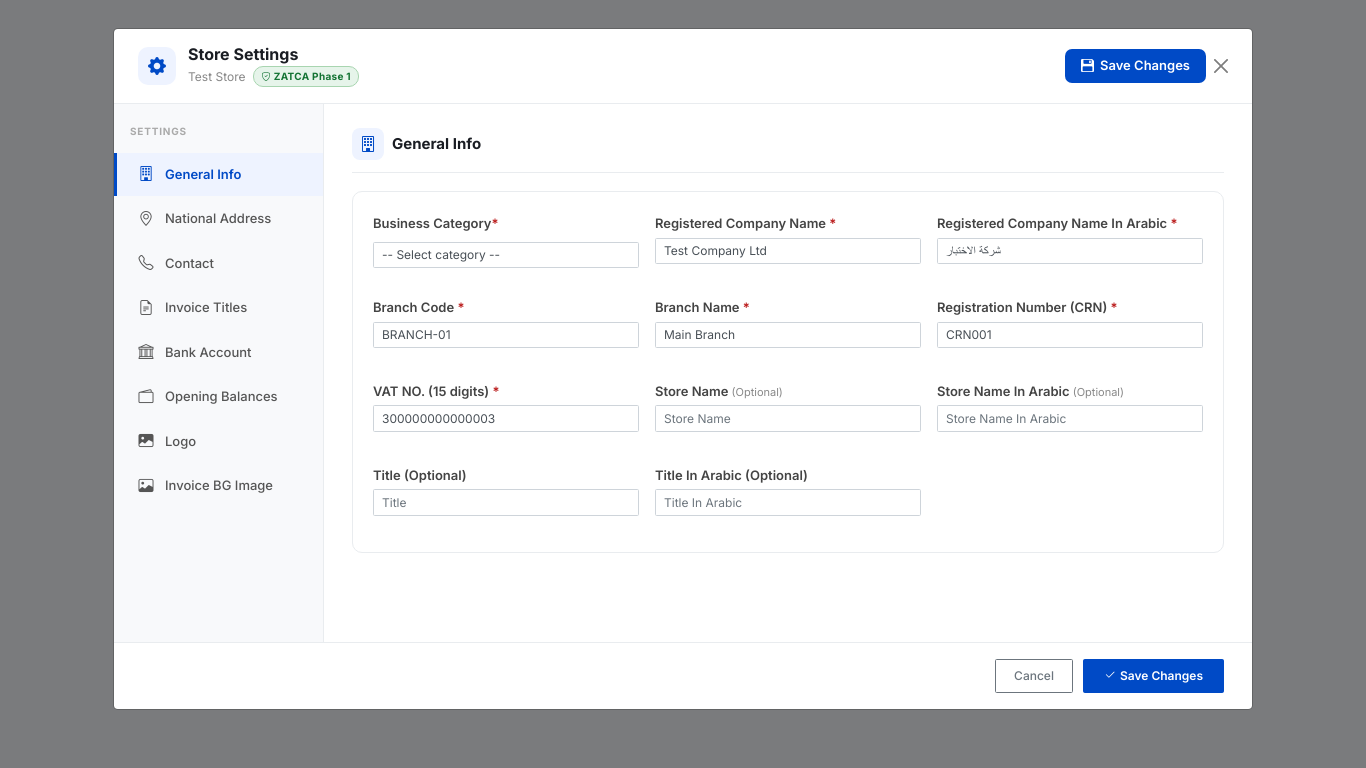
it: 1. Modal visibility › 1.4  store name from localStorage shown in header
expect the heading "General Info" is shown: met, box [392,135,481,153]
Click the button "Invoice Titles".
click(218, 308)  # box [114,287,323,329]
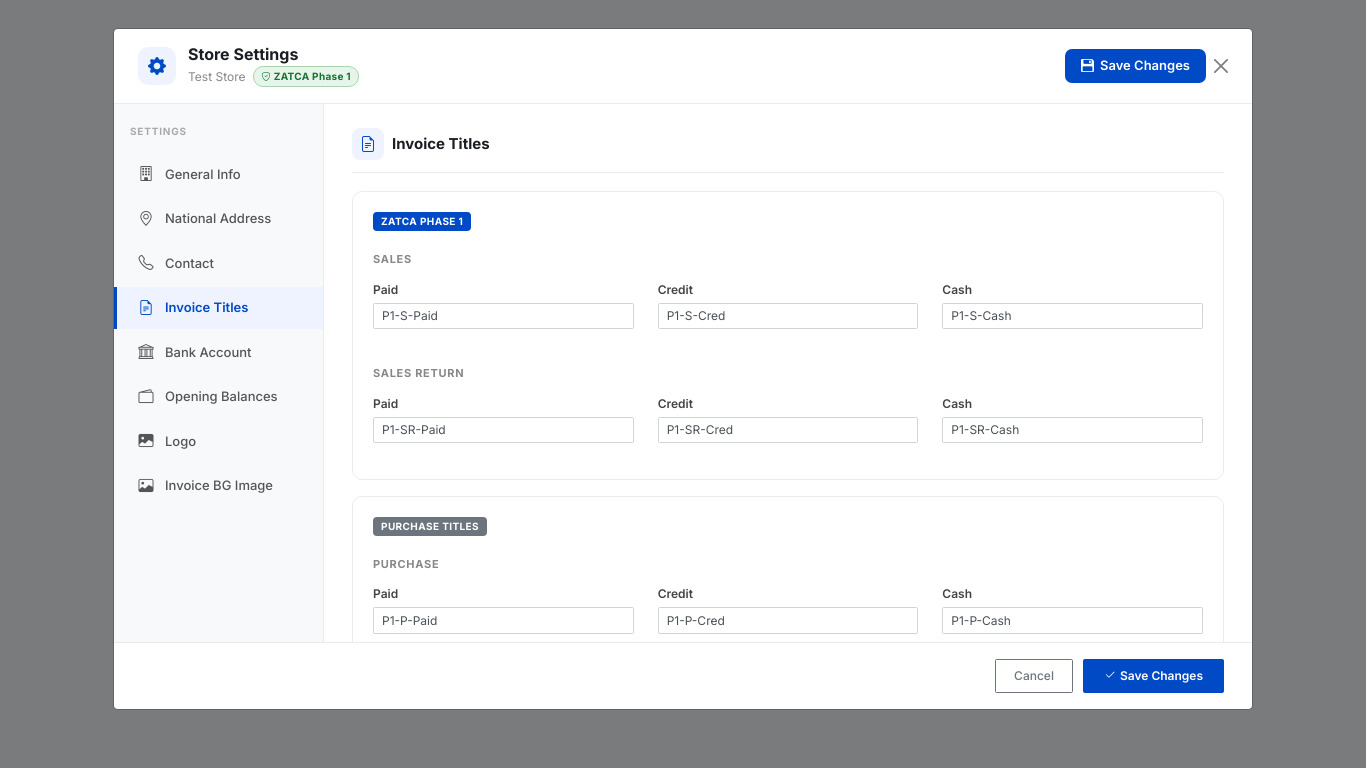
expect the text "Test Store" is shown: met, box [188,69,246,84]
expect the text "PURCHASE TITLES" is shown: met, box [373,517,487,536]
